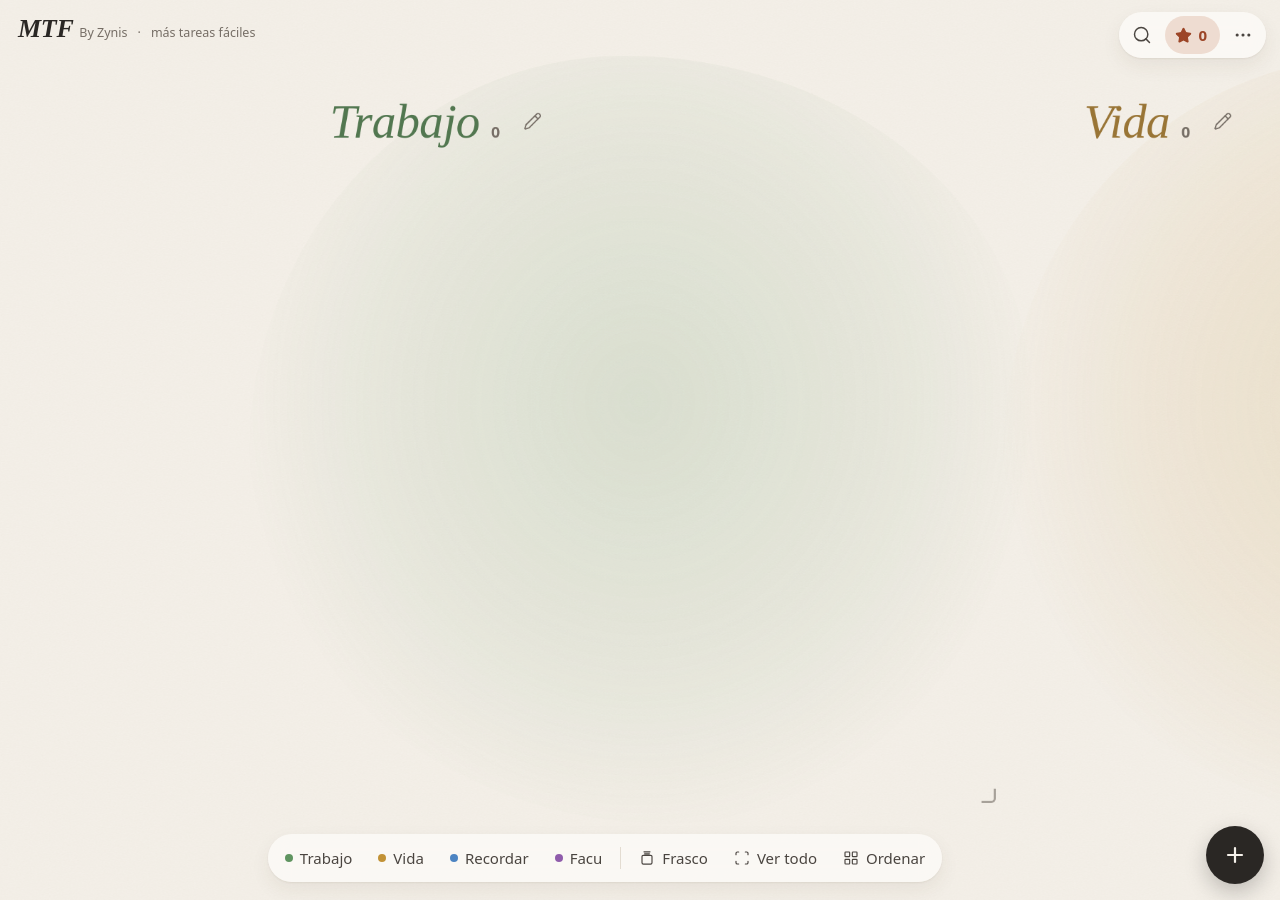
Test case: App › Tabla closes Settings, puts four Areas in two rows of two with their Cards, and shows the whole Desk
Click the button named "Ajustes".
click(1243, 35)  # box [1224,16,1262,54]
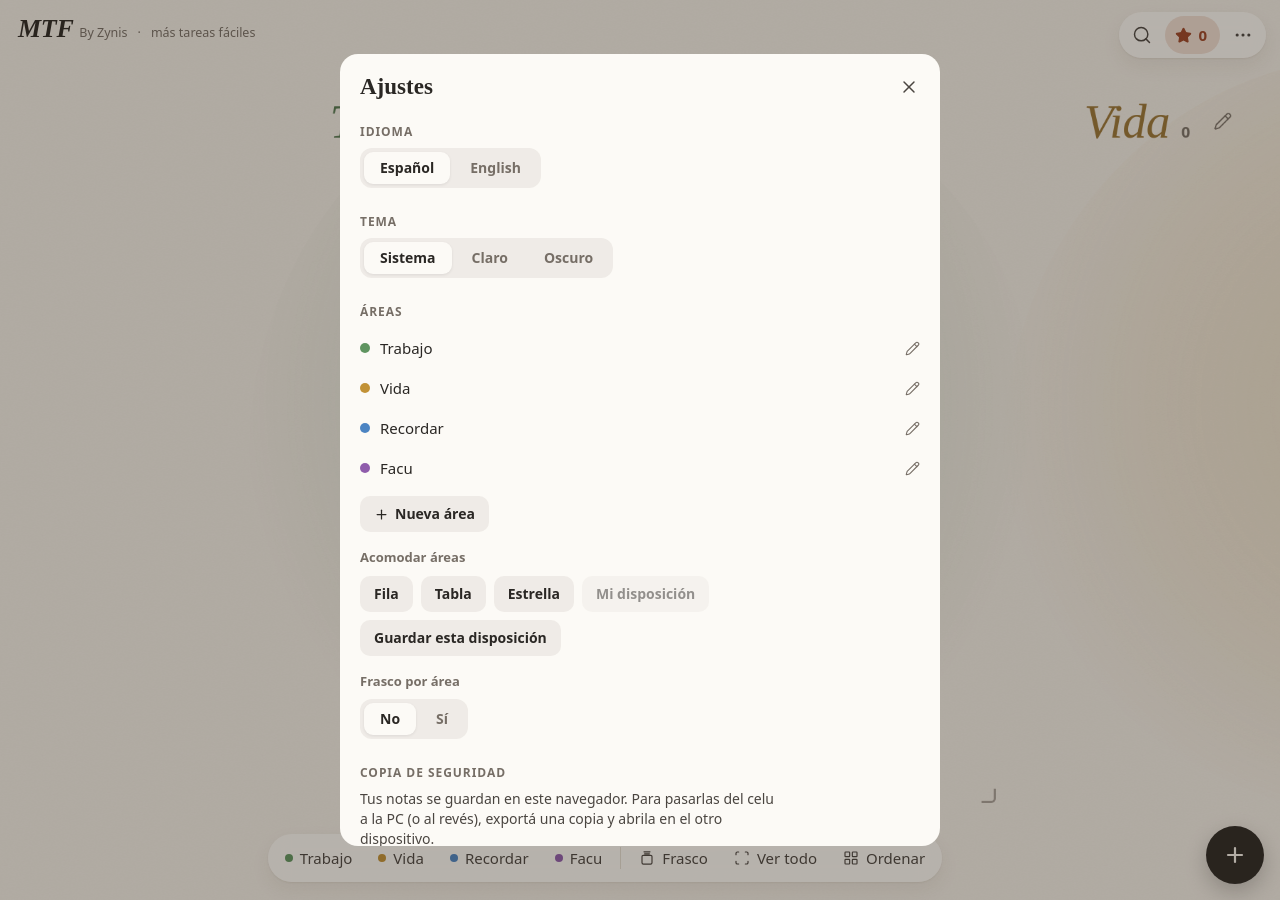
Click the button "Tabla".
click(453, 594)  # box [421,576,486,612]
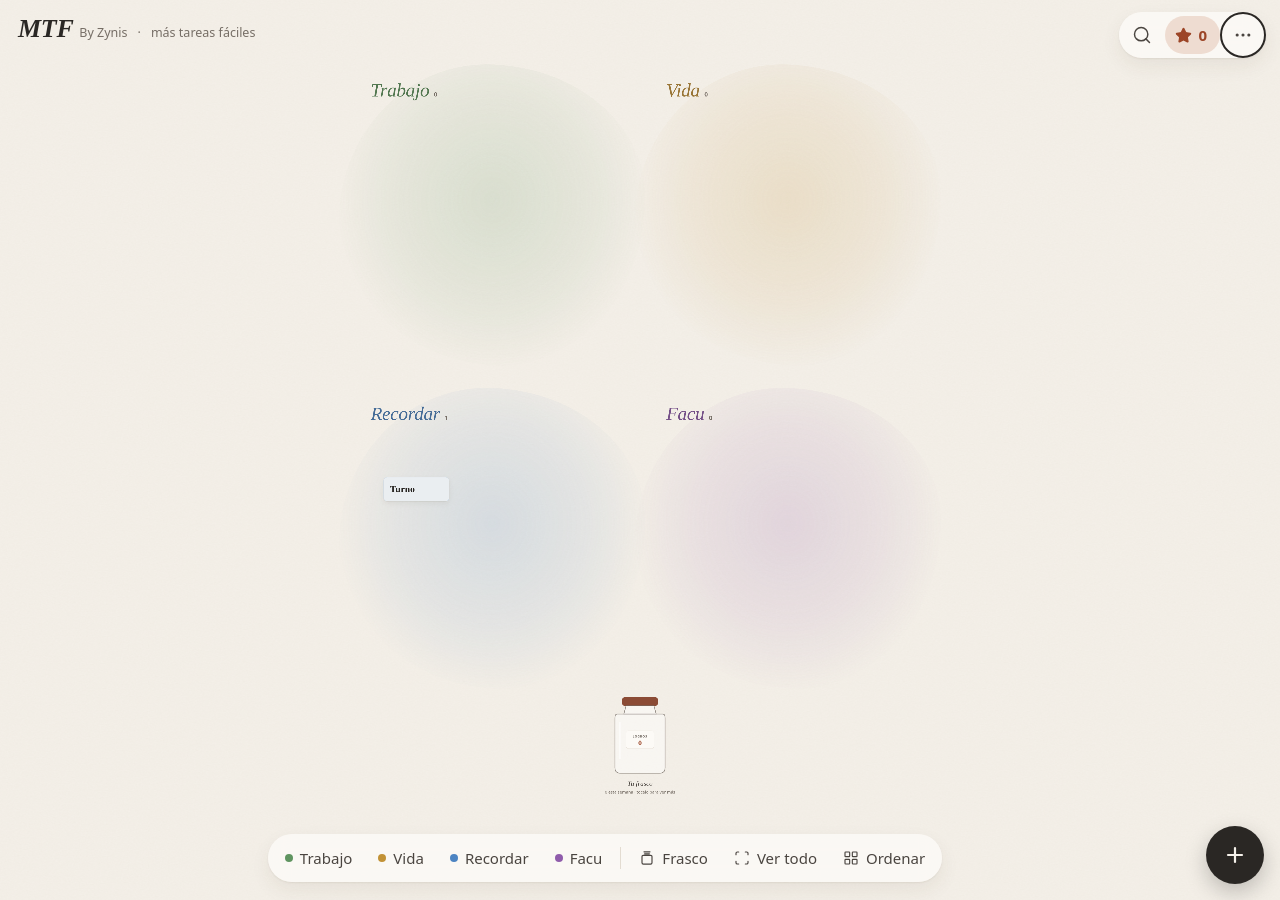
Expected: the button "Trabajo" is shown, [273,839,364,877]
Result: the heading "Ajustes" is gone
